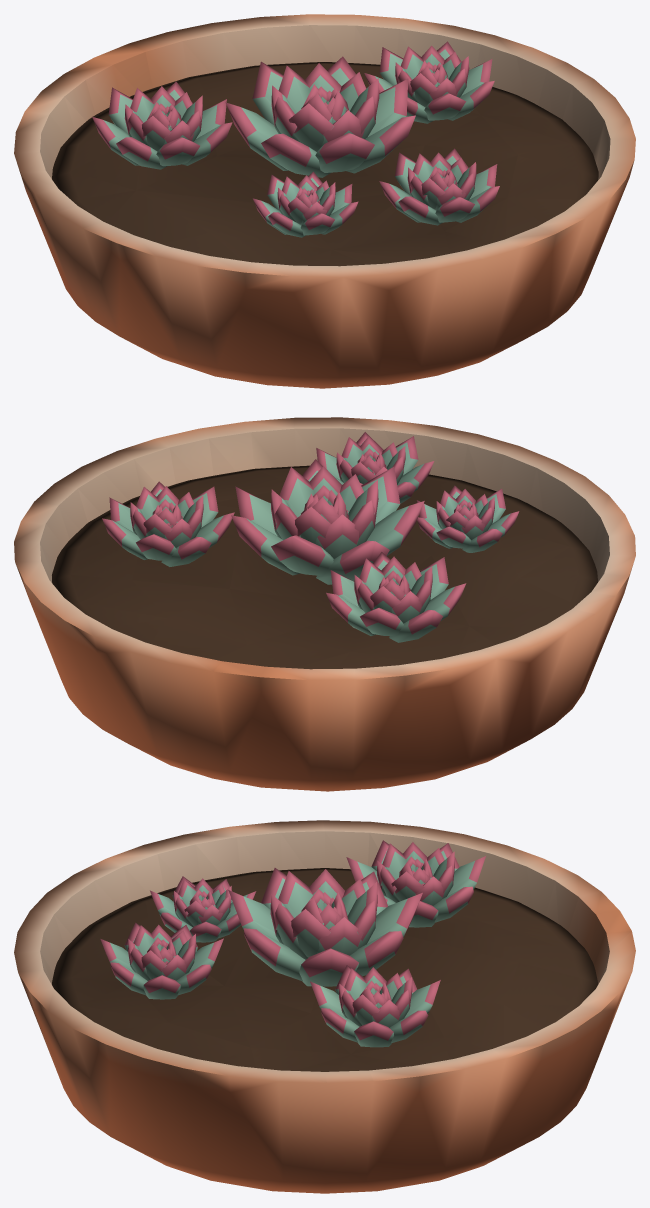
The model's file is canopy_succulent_pot.glb.
The picture shows the model from 3 angles, top to bottom: view 1: azimuth 30°, elevation 25°; view 2: azimuth 150°, elevation 25°; view 3: azimuth 270°, elevation 25°; orthographic projection.
Visible parts, largest first — view 1: canopy_succulent_pot; view 2: canopy_succulent_pot; view 3: canopy_succulent_pot.
Boxes of the visible parts, left/top/right/bottom form: canopy_succulent_pot: left=14, top=14, right=635, bottom=388; canopy_succulent_pot: left=14, top=417, right=635, bottom=791; canopy_succulent_pot: left=14, top=820, right=635, bottom=1193.
Bounding box in the file's own units: 6.11 × 2.3 × 6.11.
